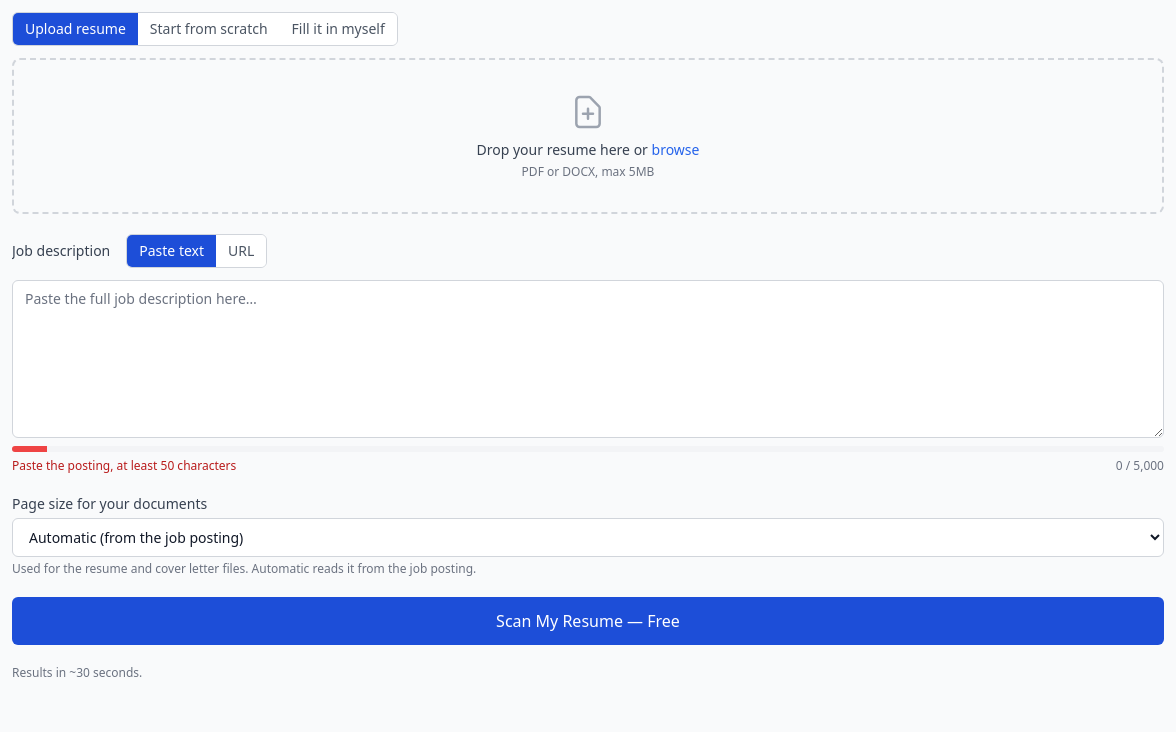
Scenario: ScanForm — the hand-filled form comes back (G1) › a signed-in person starts with their account name and email visible in the form, not added behind their back
Click the button "Fill it in myself" at (338, 29), box [280,13,397,45]
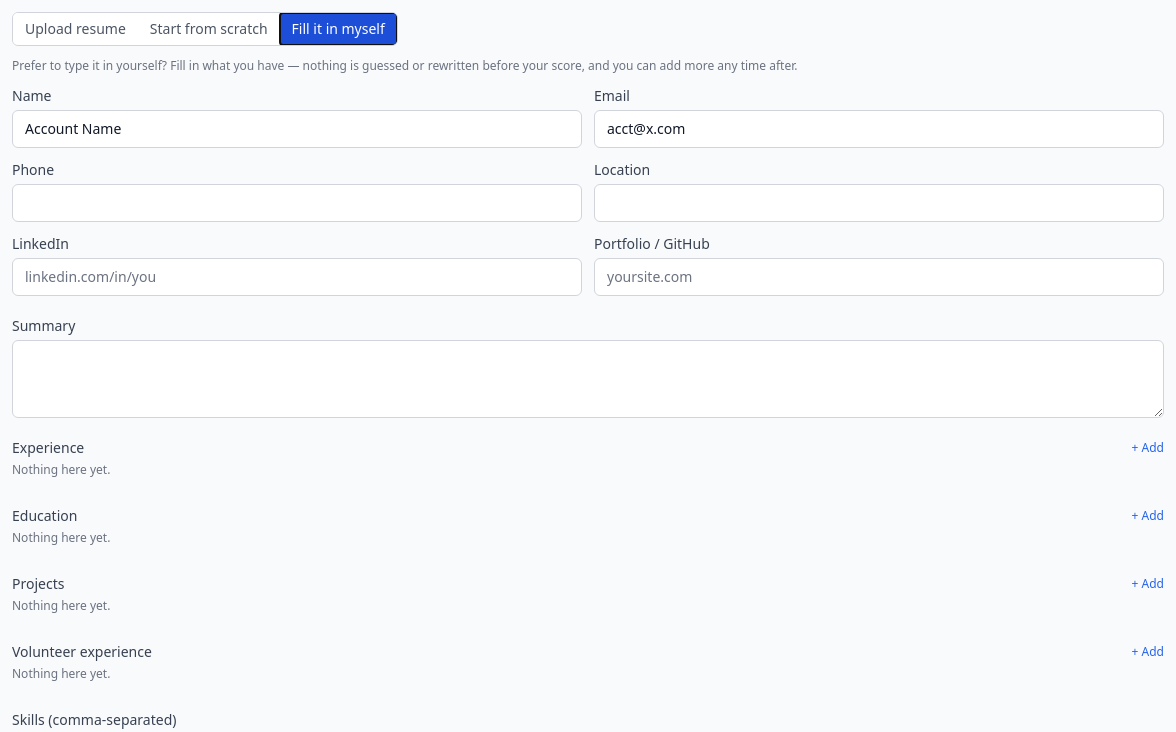
Expected: the field labelled "Name" holds "Account Name", [12,110,582,148]
Expected: the field labelled "Email" holds "acct@x.com", [594,110,1164,148]
